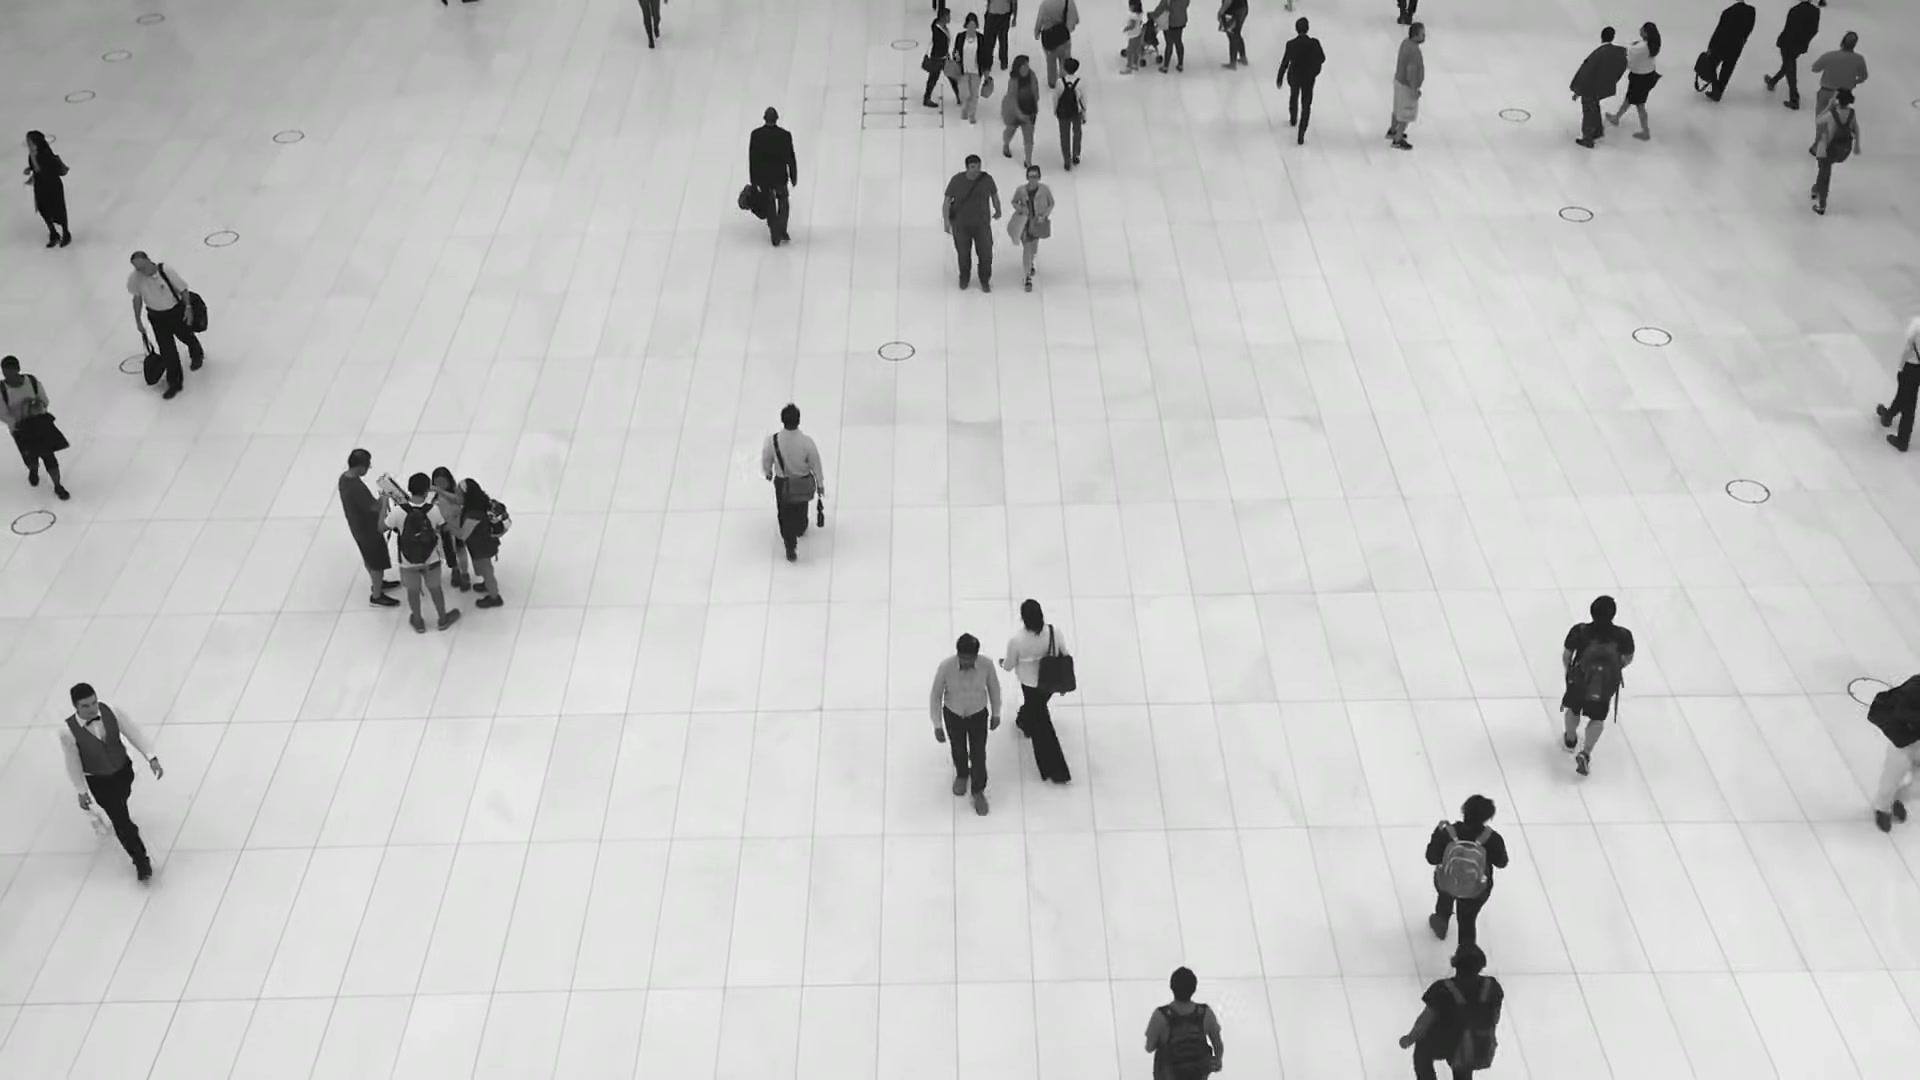person: (56, 681, 157, 871), (1559, 600, 1637, 789), (1396, 943, 1502, 1080), (1425, 795, 1513, 957), (929, 631, 1004, 816), (380, 475, 459, 634), (1000, 595, 1068, 768), (125, 247, 201, 394), (759, 404, 825, 566), (337, 448, 403, 609), (0, 356, 69, 510), (936, 155, 1003, 297), (1803, 90, 1869, 220), (1145, 972, 1222, 1080), (1563, 29, 1624, 151), (746, 110, 798, 255), (454, 478, 506, 610), (1276, 17, 1327, 144), (23, 130, 73, 251), (1702, 0, 1755, 110), (1770, 0, 1822, 107), (425, 467, 469, 590), (1807, 30, 1868, 117), (1009, 163, 1054, 284), (1384, 22, 1426, 153), (1617, 20, 1662, 138), (1050, 59, 1089, 175), (999, 52, 1039, 167), (950, 13, 988, 130), (1034, 0, 1081, 89), (921, 8, 952, 109), (1118, 0, 1143, 76)
